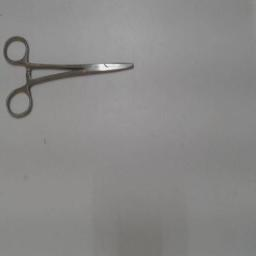Mayo Needle Holder: (1, 32, 141, 124)
